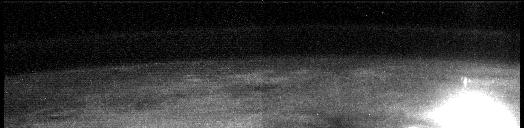positive: (455, 73, 476, 92)
